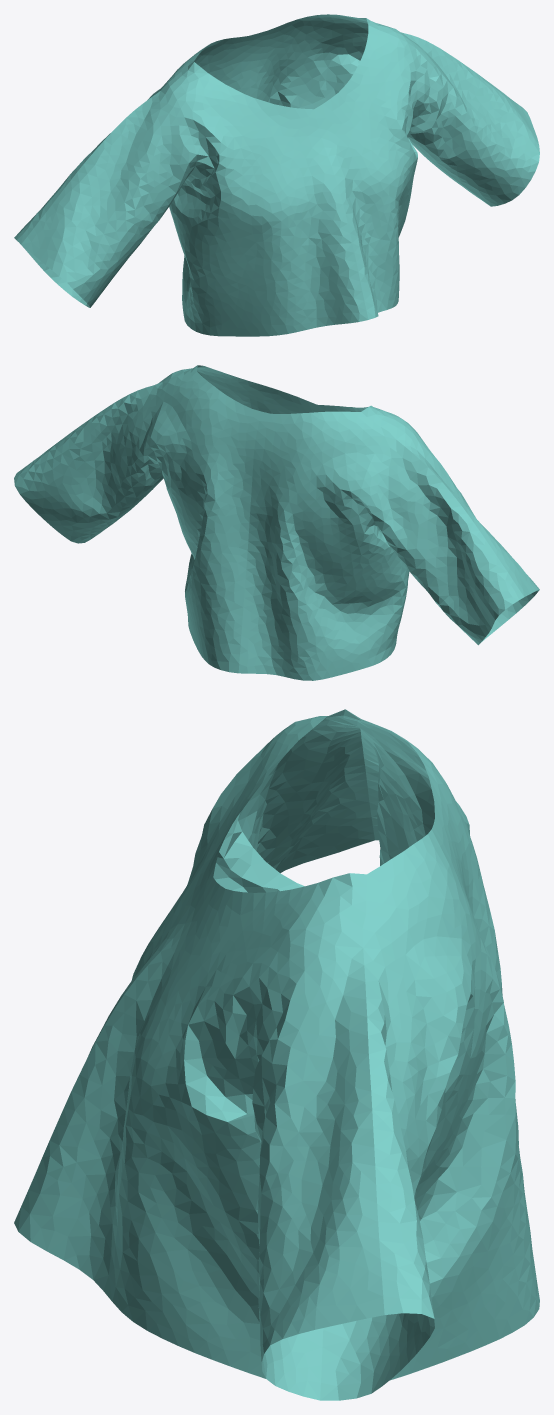
The model's file is garment.glb.
3 renders of one model, top to bottom at view 1: azimuth 30°, elevation 25°; view 2: azimuth 150°, elevation 25°; view 3: azimuth 270°, elevation 25°, orthographic. The views are drawn at different scales.
Visible parts, largest first — view 1: geometry_0; view 2: geometry_0; view 3: geometry_0.
Boxes of the visible parts, x1=… form: geometry_0: x1=14, y1=14, x2=539, y2=336; geometry_0: x1=14, y1=365, x2=539, y2=680; geometry_0: x1=14, y1=709, x2=539, y2=1400.
Size of the model in its own units: 0.8615 by 0.4223 by 0.3931.
